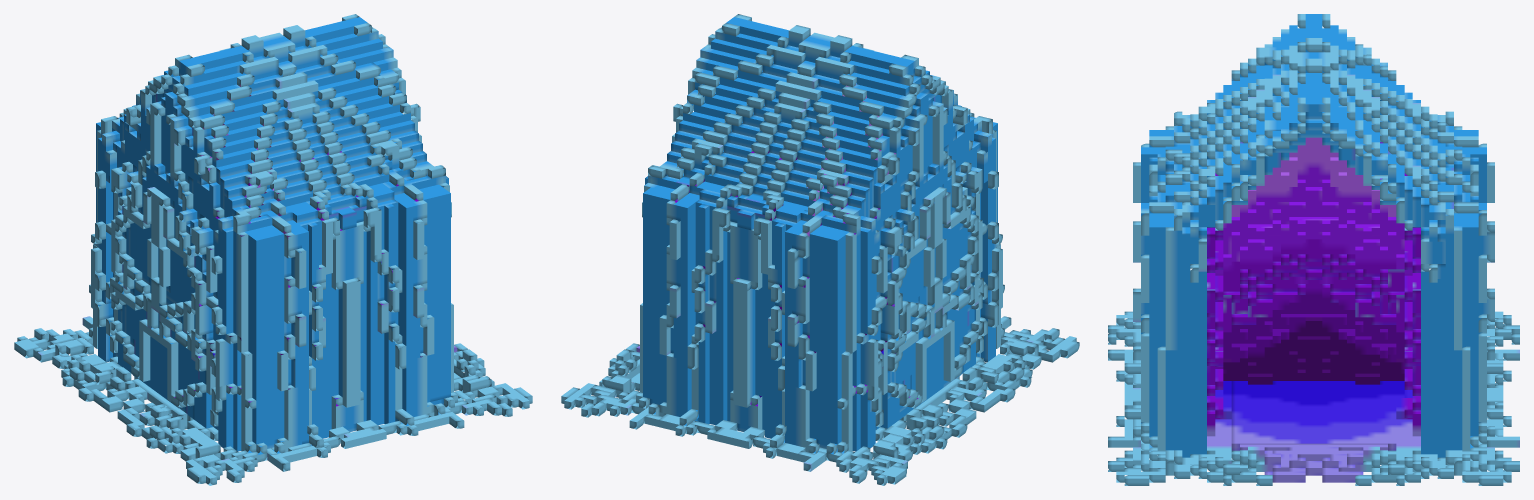
The model's file is Portal_Hielo.dae.
The picture shows the model from 3 angles, left to right: view 1: azimuth 30°, elevation 25°; view 2: azimuth 150°, elevation 25°; view 3: azimuth 270°, elevation 25°; orthographic projection. The views are drawn at different scales.
Visible parts, largest first — view 1: Node-local; view 2: Node-local; view 3: Node-local.
Boxes of the visible parts, x1,y1,x2,y2 form: Node-local: (14, 14, 532, 485); Node-local: (561, 14, 1079, 485); Node-local: (1108, 14, 1519, 485).
Bounding box in the file's own units: 48 × 47 × 50.
1 material, 1 textured.
